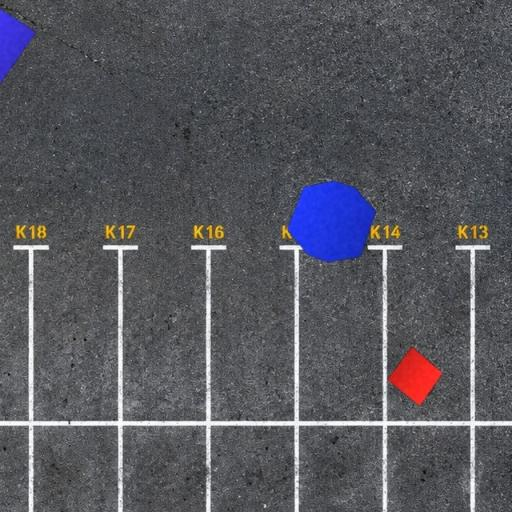RED_SQUARE: (386, 346, 444, 406)
